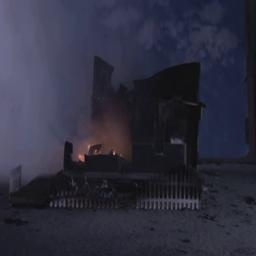smoke: (0, 0, 122, 143)
